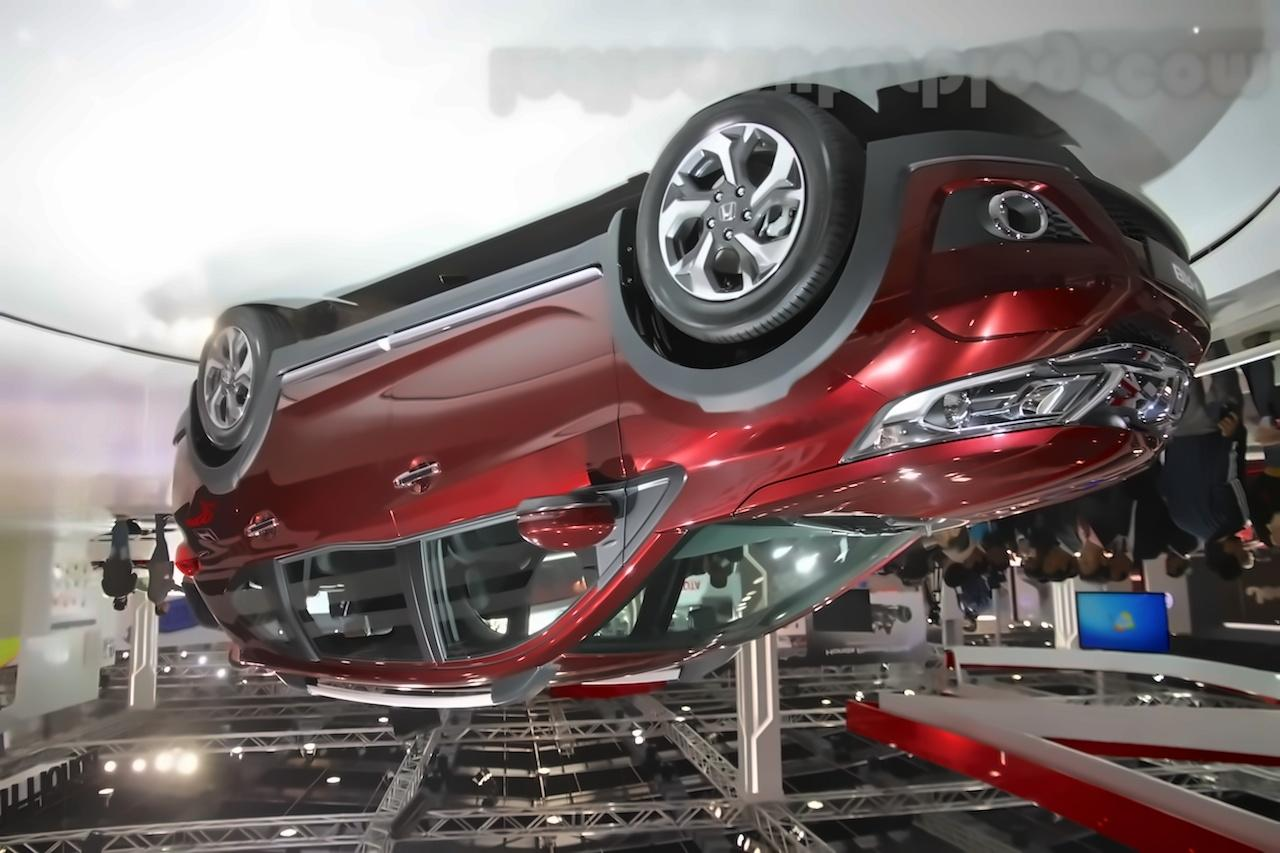Fender - -F-L-: (613, 262, 884, 547)
Fender - -R-L-: (160, 407, 272, 608)
Front bumper: (853, 130, 1220, 363)
Headlight - -L-: (839, 340, 1133, 469)
Passenger-s door - -F-L-: (374, 212, 646, 712)
Passenger-s door - -R-L-: (221, 236, 439, 720)
Side bumper - -L-: (255, 206, 647, 450)
Side mirror - -L-: (500, 490, 627, 549)
